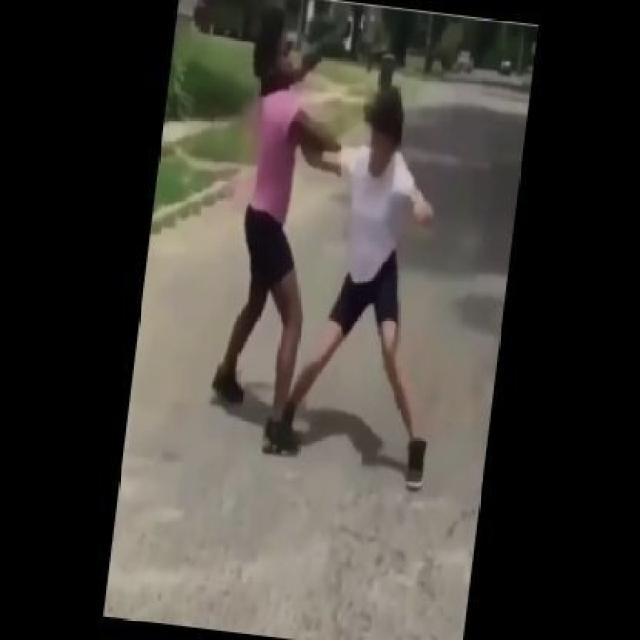fight: (198, 4, 453, 498)
